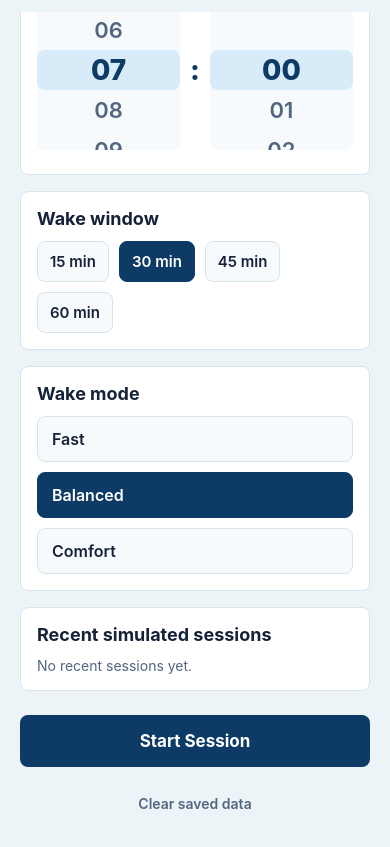
Test: alarm settings flow › shows a disabled fallback note when notification permission is denied
(page scrolled)
Step 1. Click the button with test id "start-session-button" → click(195, 741), box [20,715,370,767]
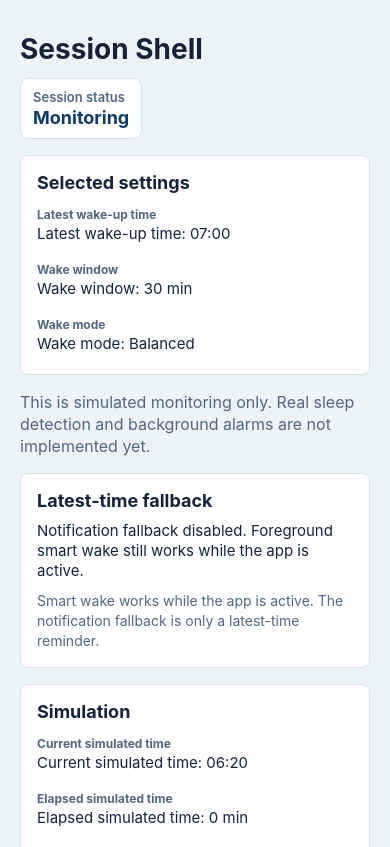
Expected: the text with test id "session-status-value" reads "Monitoring", [33,107,129,128]
Expected: the text with test id "notification-fallback-status" shows "Notification fallback disabled. Foreground smart wake still works while the app is active.", [37,521,337,580]
Expected: the text with test id "session-simulation-time" reads "Current simulated time: 06:20", [37,753,248,772]
